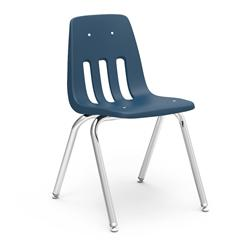chair: (45, 7, 219, 235)
